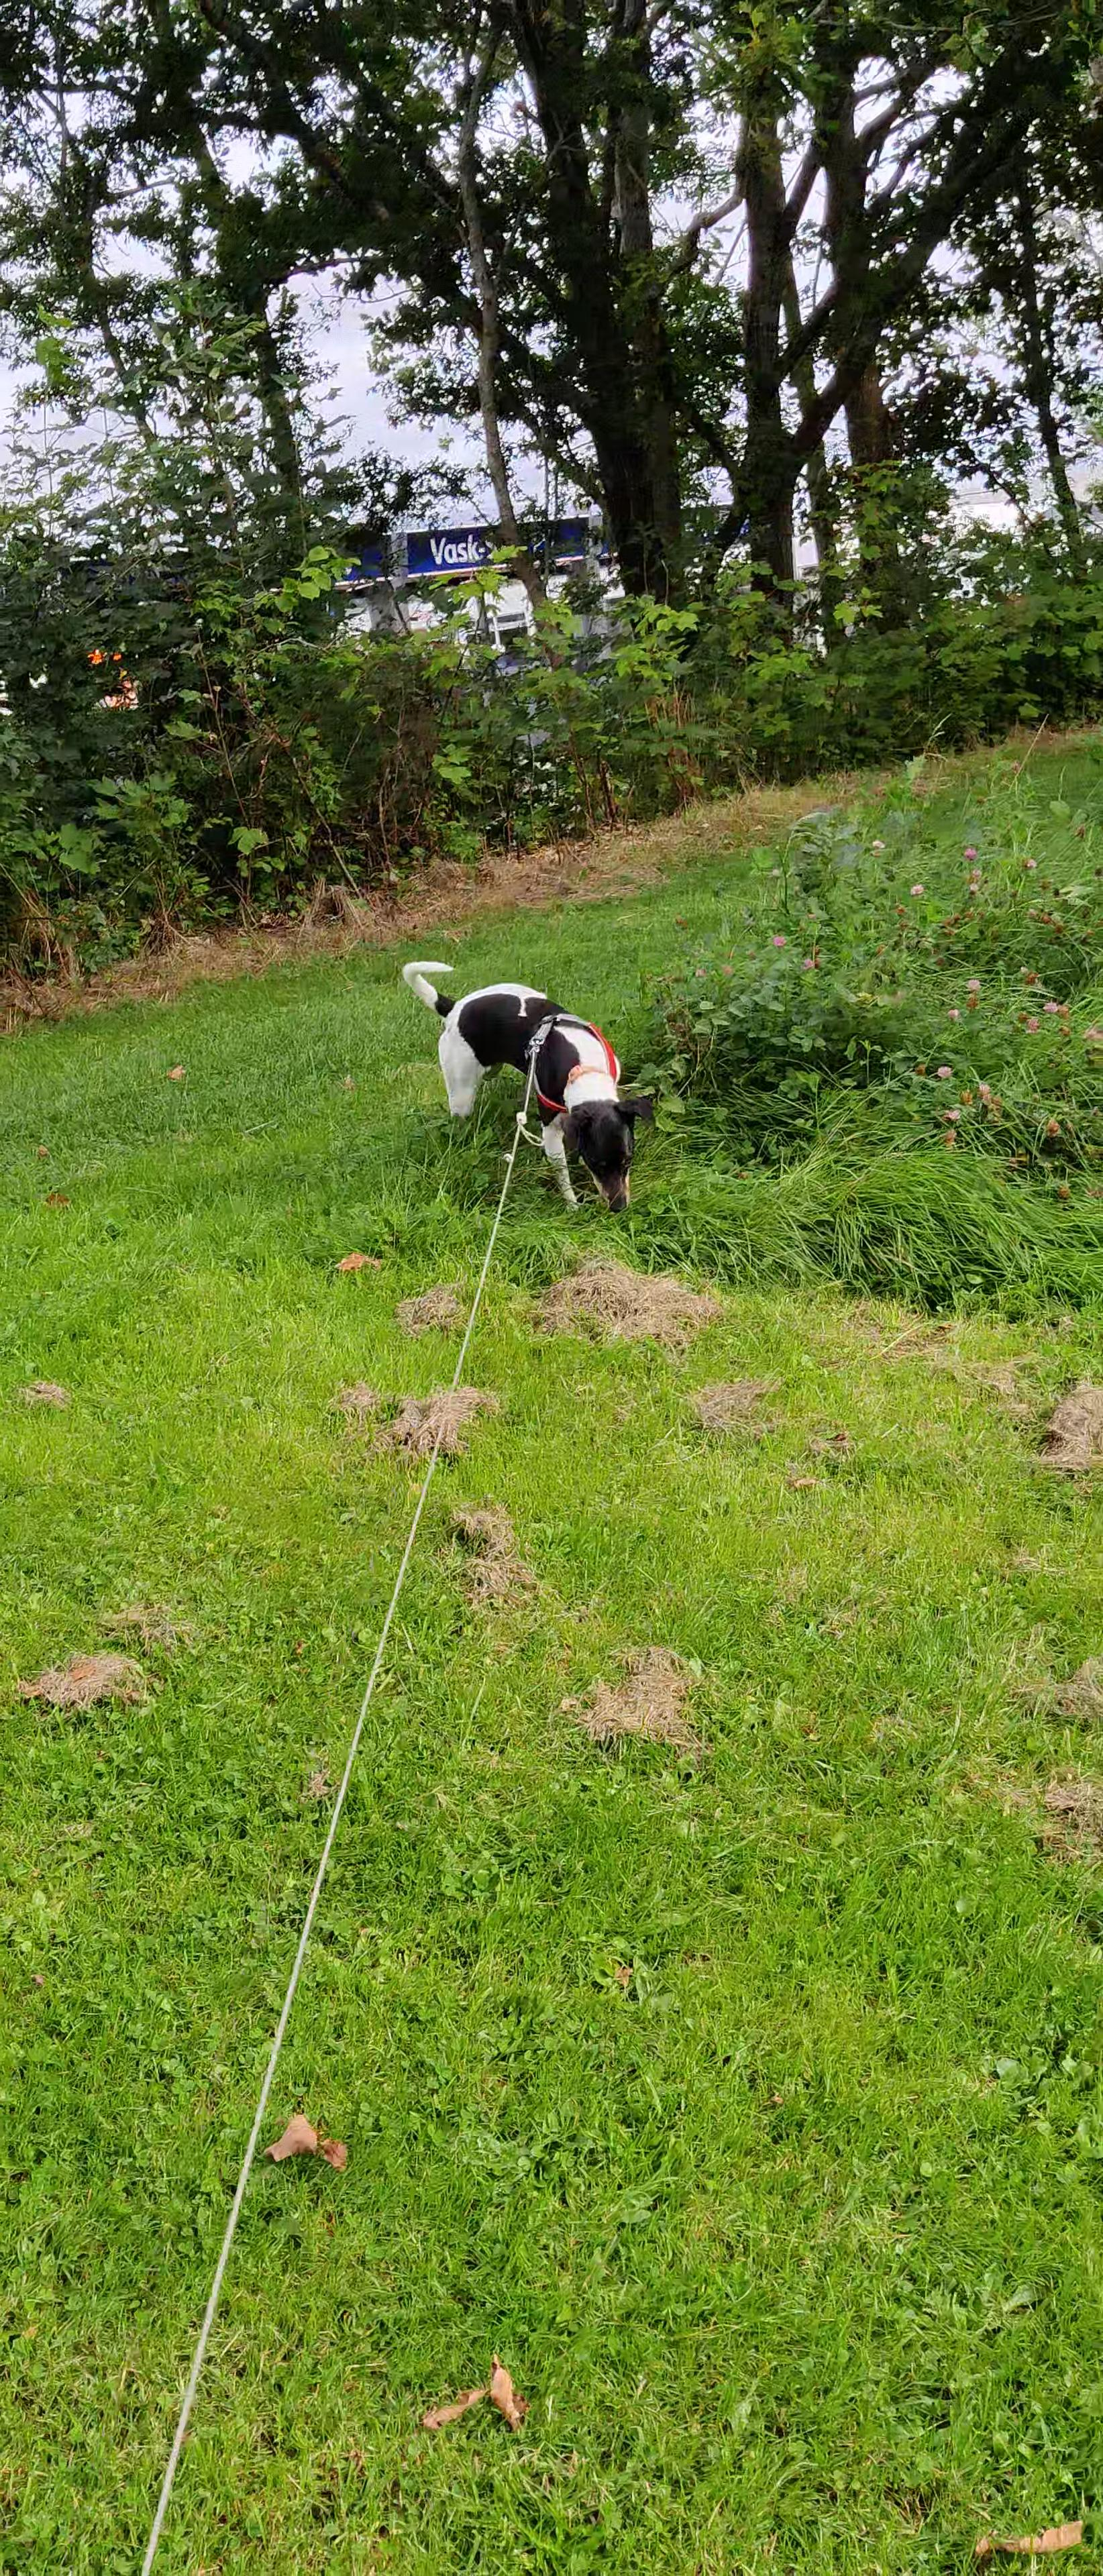Dog: (390, 935, 667, 1230)
